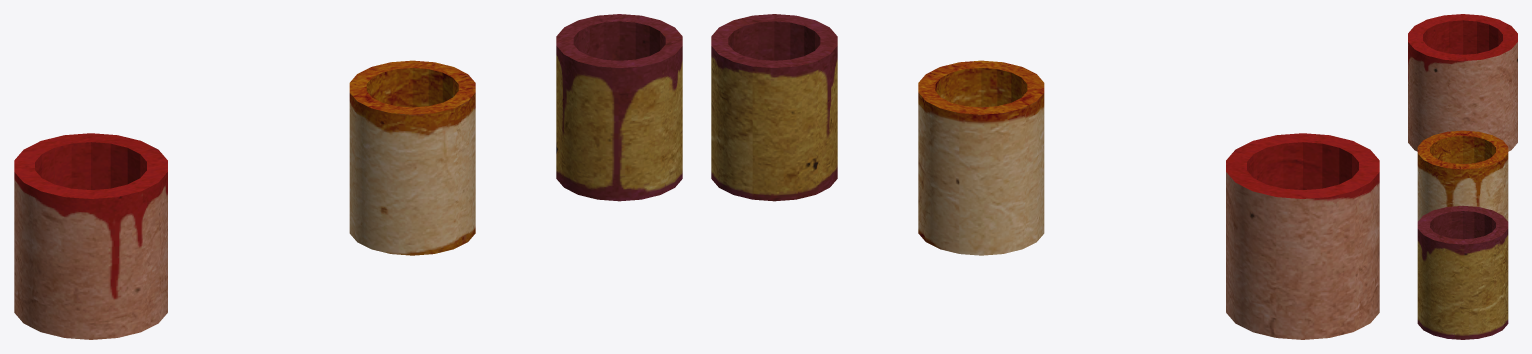
The model's file is Magic_Shelf_Cups.fbx.
3 views of the same model, side by side, from view 1: azimuth 30°, elevation 25°; view 2: azimuth 150°, elevation 25°; view 3: azimuth 270°, elevation 25° (orthographic). The views are drawn at different scales.
Parts seen in each view (by area): view 1: Magic_Shelf_Cups; view 2: Magic_Shelf_Cups; view 3: Magic_Shelf_Cups.
Boxes of the visible parts, box(x1,y1,x2,y2) form: Magic_Shelf_Cups: box(14, 14, 682, 339); Magic_Shelf_Cups: box(711, 14, 1379, 339); Magic_Shelf_Cups: box(1408, 14, 1517, 339).
Bounding box in the file's own units: 1.39 × 0.2876 × 0.2839.
Materials: 1 (1 with a texture image).
